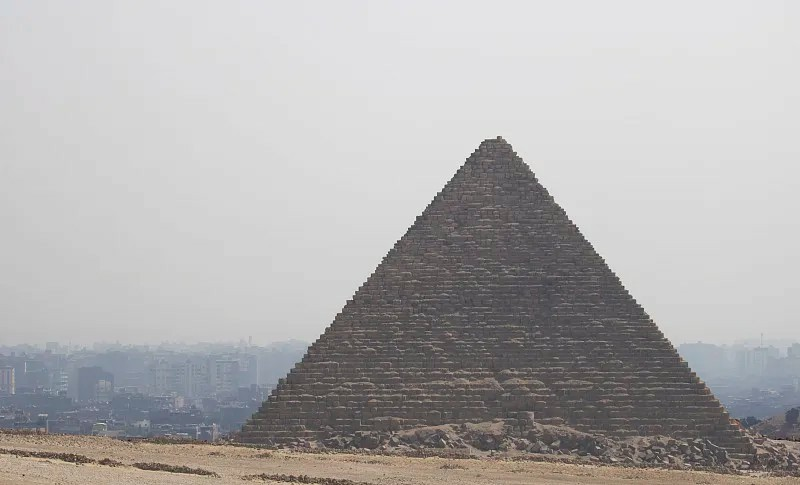Pyramid: (231, 135, 761, 464)
